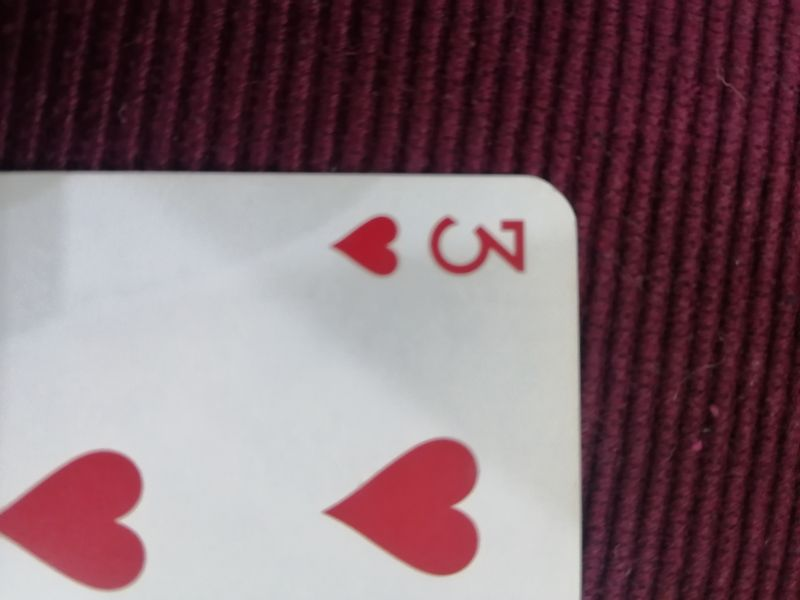3h: (329, 208, 533, 279)
